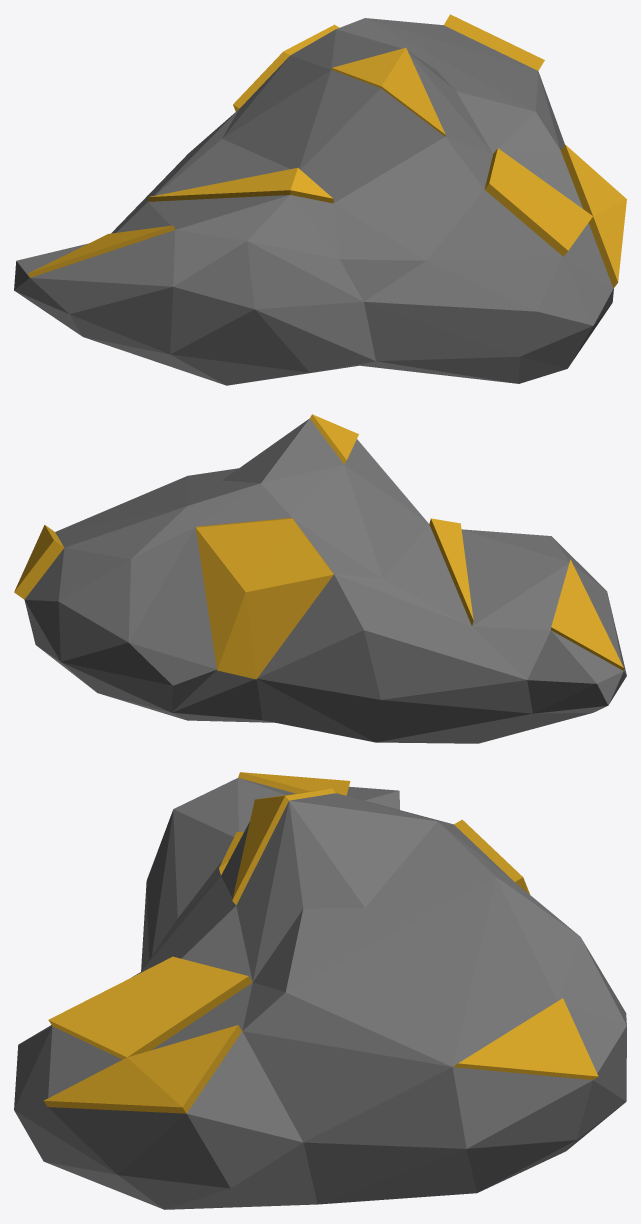
File: Gold Vein.fbx
3 views of the same model, one above another, from view 1: azimuth 30°, elevation 25°; view 2: azimuth 150°, elevation 25°; view 3: azimuth 270°, elevation 25° (orthographic). The views are drawn at different scales.
Parts seen in each view (by area): view 1: Gold Vein; view 2: Gold Vein; view 3: Gold Vein.
Boxes of the visible parts, x1,y1,x2,y2 form: Gold Vein: (14,14,626,385); Gold Vein: (14,414,626,743); Gold Vein: (14,772,626,1209).
Bounding box in the file's own units: 80.53 × 106 × 53.1.
